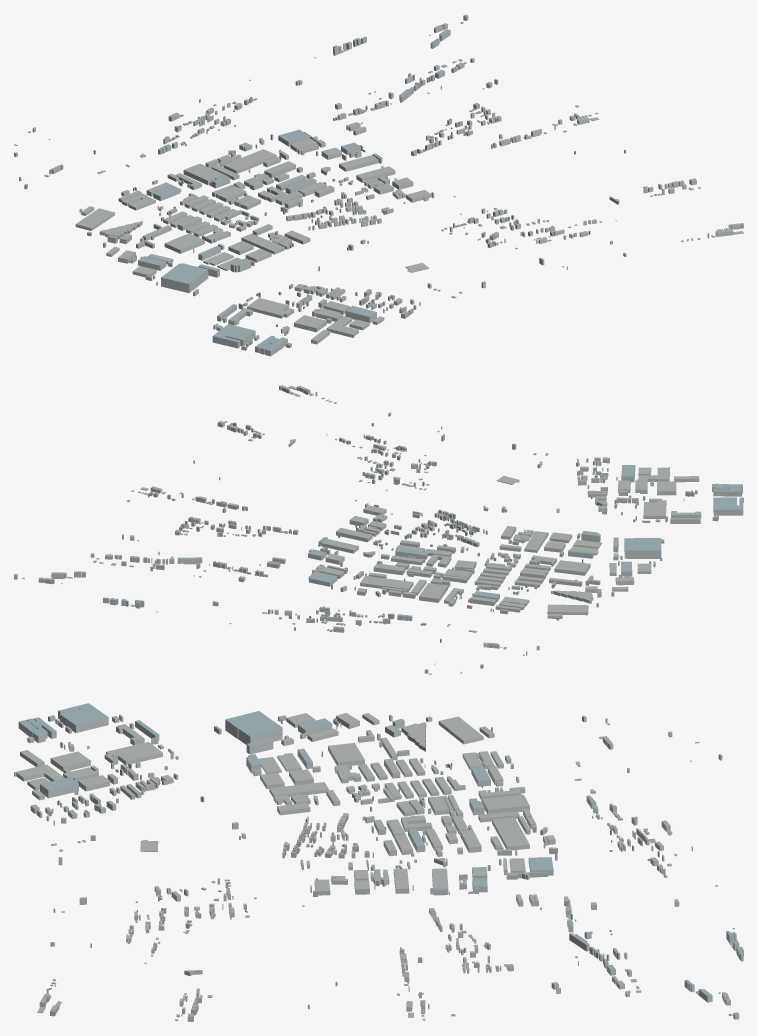
File: far.glb
3 renders of one model, top to bottom at view 1: azimuth 30°, elevation 25°; view 2: azimuth 150°, elevation 25°; view 3: azimuth 270°, elevation 25°, orthographic. The views are drawn at different scales.
Size of the model in its own units: 2169 by 35.69 by 2151.
